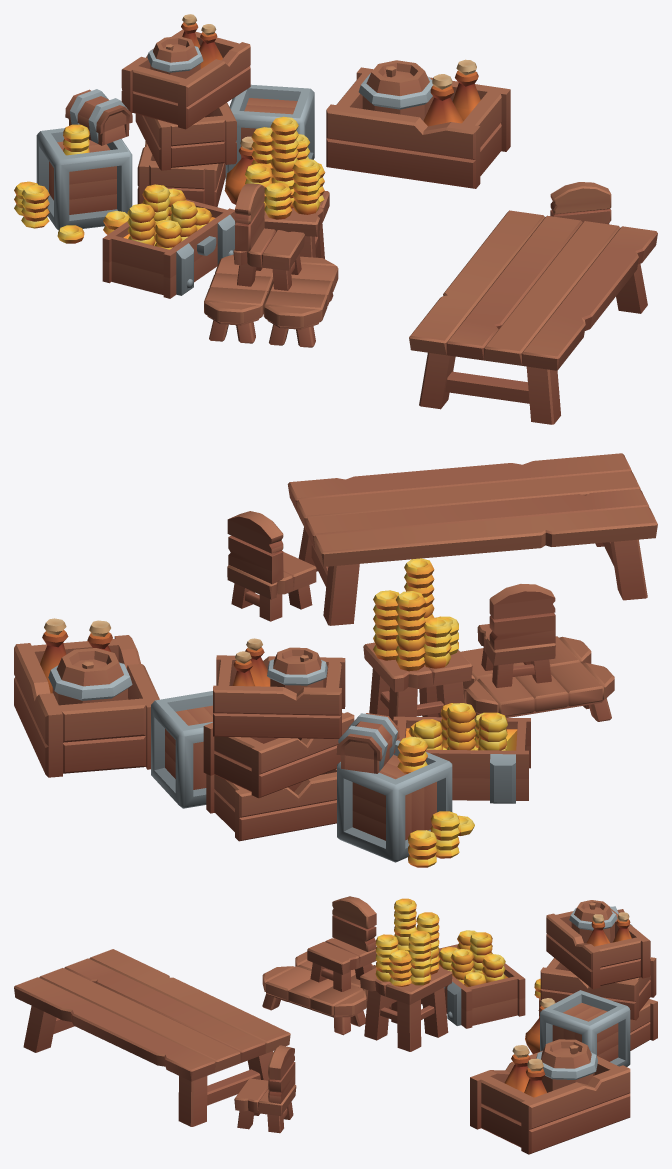
File: Tavern_thieves_area.glb
3 renders of one model, top to bottom at view 1: azimuth 30°, elevation 25°; view 2: azimuth 150°, elevation 25°; view 3: azimuth 270°, elevation 25°, orthographic. The views are drawn at different scales.
Visible parts, largest first — view 1: table_long, crates_stacked, crate_large_decorated, box_small_decorated, chest_gold, table_small_decorated_B, chair, bench.001, bench, chair.001; view 2: table_long, crates_stacked, crate_large_decorated, box_small_decorated, table_small_decorated_B, chest_gold, chair.001, chair, bench, bench.001; view 3: table_long, crates_stacked, crate_large_decorated, table_small_decorated_B, chest_gold, chair, bench.001, chair.001, bench.
Boxes of the visible parts, x1,y1,x2,y2 form: table_long: (409,210,657,424); crates_stacked: (121,14,314,207); crate_large_decorated: (326,59,510,188); box_small_decorated: (14,89,132,243); chest_gold: (102,184,236,298); table_small_decorated_B: (245,116,329,258); chair: (233,183,304,290); bench.001: (263,256,338,347); bench: (204,254,273,343); chair.001: (550,182,611,224); table_long: (287,453,657,625); crates_stacked: (151,638,354,841); crate_large_decorated: (14,618,159,777); box_small_decorated: (336,713,474,867); table_small_decorated_B: (363,558,472,720); chest_gold: (393,703,530,803); chair.001: (227,511,316,621); chair: (477,584,555,687); bench: (466,662,614,721); bench.001: (460,636,591,703); table_long: (14,949,290,1126); crates_stacked: (525,900,657,1066); crate_large_decorated: (470,1039,630,1154); table_small_decorated_B: (360,898,452,1051); chest_gold: (438,930,525,1028); chair: (307,896,376,991); bench.001: (262,966,366,1035); chair.001: (234,1045,296,1133); bench: (295,951,391,1009).
Bounding box in the file's own units: 6.53 × 2.19 × 9.59.
Materials: 1 (1 with a texture image).
